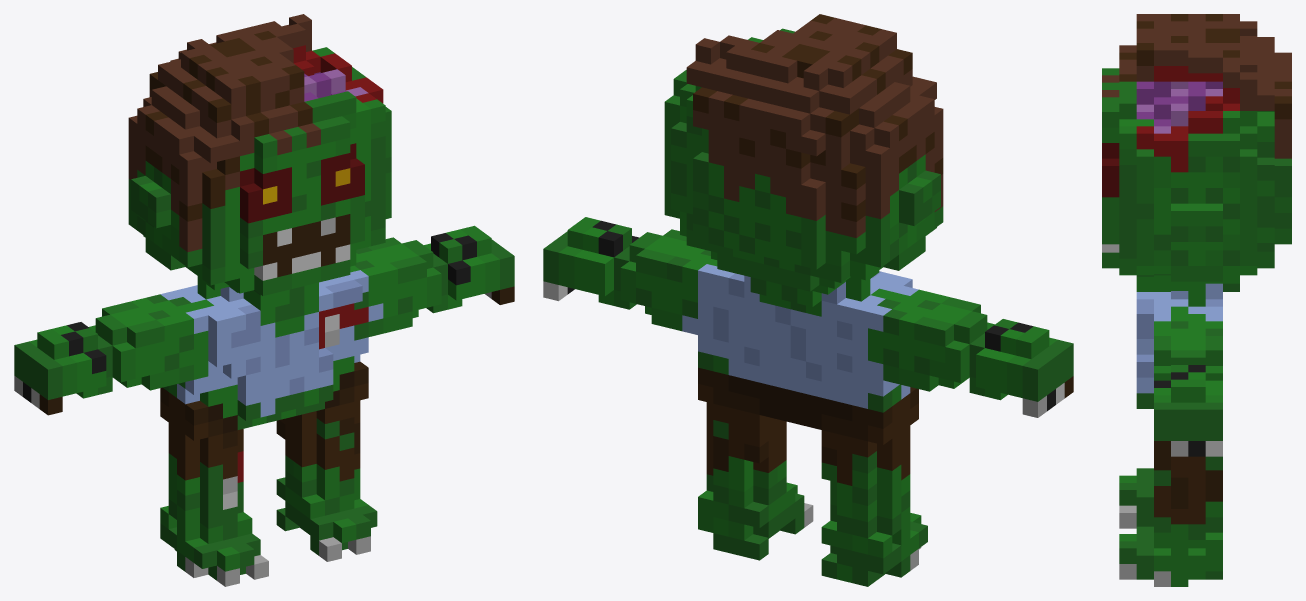
Rendered from zombie.obj.
3 views of the same model, side by side, from view 1: azimuth 30°, elevation 25°; view 2: azimuth 150°, elevation 25°; view 3: azimuth 270°, elevation 25° (orthographic). The views are drawn at different scales.
Size of the model in its own units: 3.2 by 3.2 by 1.1.
1 material, 1 textured.
